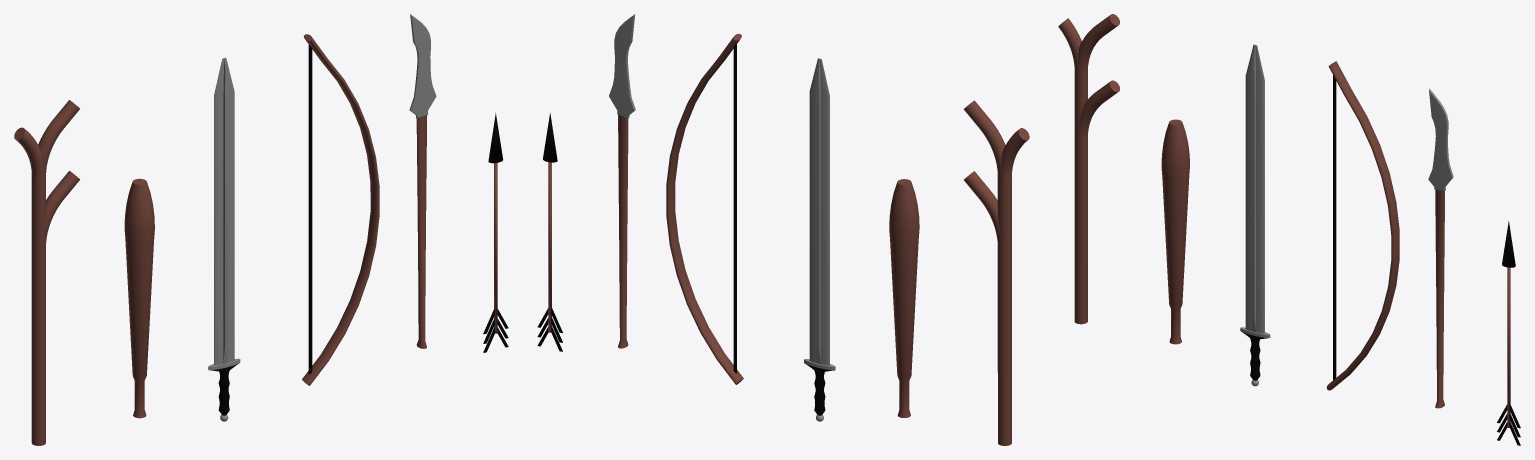
File: meleweaponnew.fbx
The picture shows the model from 3 angles, left to right: view 1: azimuth 30°, elevation 25°; view 2: azimuth 150°, elevation 25°; view 3: azimuth 330°, elevation 25°; orthographic projection. The views are drawn at different scales.
Parts seen in each view (by area): view 1: KILIC, DAL, YAY, SOPA, MIZRAK, Plane.005; view 2: KILIC, DAL, SOPA, YAY, MIZRAK, Plane.005; view 3: KILIC, DAL, SOPA, YAY, MIZRAK, Plane.005.
Part boxes in pixels (x1,y1,x2,y2): KILIC: (208, 57, 240, 421); DAL: (14, 100, 79, 445); YAY: (302, 34, 379, 385); SOPA: (124, 178, 154, 418); MIZRAK: (409, 14, 436, 348); Plane.005: (483, 113, 508, 352); KILIC: (804, 58, 835, 421); DAL: (963, 100, 1029, 445); SOPA: (889, 179, 919, 417); YAY: (666, 33, 743, 384); MIZRAK: (609, 14, 635, 348); Plane.005: (537, 113, 562, 351); KILIC: (1240, 44, 1270, 386); DAL: (1058, 14, 1119, 324); SOPA: (1161, 119, 1189, 344); YAY: (1326, 61, 1399, 390); MIZRAK: (1428, 88, 1453, 408); Plane.005: (1497, 221, 1520, 445).
Size of the model in its own units: 797 by 566 by 42.88.
